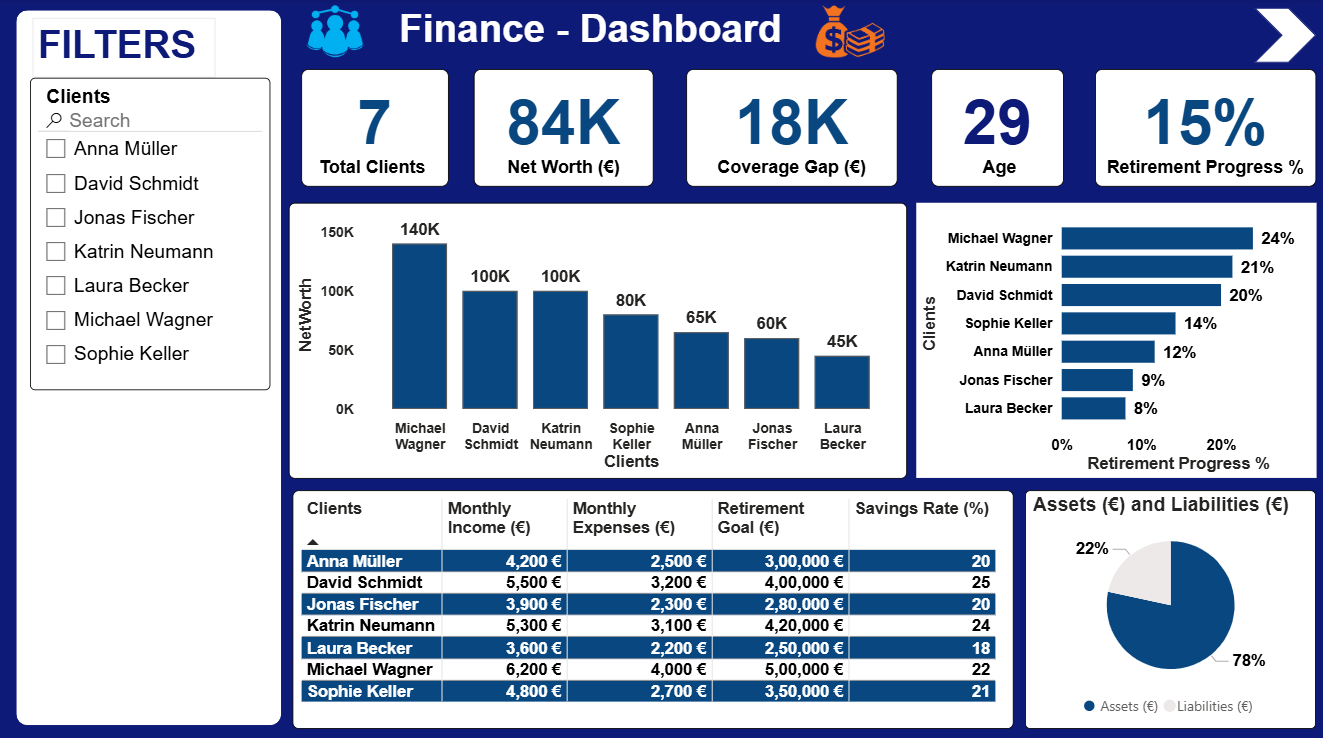

The page's visual inventory and layout, read from the dashboard file:
{"tool":"powerbi","page":{"name":"Page 1","canvas":[1280,720],"ordinal":0},"visuals":[{"type":"shape","box":[13.3,8.4,261.8,696.1],"z":0},{"type":"textbox","box":[380,2.4,394.5,65.1],"z":1000},{"type":"card","fields":{"Values":["Clients.Clients Count"]},"box":[290.8,67.6,142.4,113.4],"z":2000},{"type":"card","fields":{"Values":["Clients.Retirement Progress %"]},"box":[1056.8,67.6,213.5,113.4],"z":3000},{"type":"card","fields":{"Values":["Clients.Avg Net Worth (€)"]},"box":[457.2,67.6,173.7,113.4],"z":4000},{"type":"card","fields":{"Values":["Clients.Avg Coverage Gap (€)"]},"box":[662.3,67.6,203.9,113.4],"z":5000},{"type":"textbox","box":[31.4,18.1,176.1,57.9],"z":6000},{"type":"clusteredColumnChart","fields":{"Category":["Clients.Client Name"],"Y":["Clients.NetWorth"]},"box":[278.7,196.6,597.2,266.6],"z":7000},{"type":"pieChart","fields":{"Y":["Clients.Assets (€)","Clients.Liabilities (€)"]},"box":[989.3,474.1,281.1,230.4],"z":8000},{"type":"tableEx","fields":{"Values":["Clients.Client Name","Clients.Monthly Income (€)","Clients.Monthly Expenses (€)","Clients.Retirement Goal (€)","Clients.Savings Rate (%)"]},"box":[282.3,474.1,696.1,230.4],"z":9000},{"type":"barChart","fields":{"Category":["Clients.Client Name"],"Y":["Clients.Retirement Progress %"]},"box":[884.3,196.6,386.1,265.4],"z":10000},{"type":"slicer","fields":{"Values":["Clients.Client Name"]},"box":[29,76,231.6,301.6],"z":11000},{"type":"card","fields":{"Values":["Clients.Age"]},"box":[898.8,67.6,127.9,113.4],"z":12000},{"type":"shape","box":[1210.1,8.4,60.3,53.1],"z":13000},{"type":"image","box":[284.7,1.2,77.2,60.3],"z":14000},{"type":"image","box":[774.5,1.2,91.7,60.3],"z":15000}]}

Visuals, with their boxes in screenshot pixels (x1, y1, x2, y2), scaled from the page's 1280x720 canvas onto the 1323x738 screenshot:
shape: <box>14,9,284,722</box>
textbox: <box>393,2,801,69</box>
card - Clients.Clients Count: <box>301,69,448,186</box>
card - Clients.Retirement Progress %: <box>1092,69,1313,186</box>
card - Clients.Avg Net Worth (€): <box>473,69,652,186</box>
card - Clients.Avg Coverage Gap (€): <box>685,69,895,186</box>
textbox: <box>32,19,214,78</box>
clusteredColumnChart - Clients.Client Name x Clients.NetWorth: <box>288,202,905,475</box>
pieChart - Clients.Assets (€) x Clients.Liabilities (€): <box>1023,486,1313,722</box>
tableEx - Clients.Client Name x Clients.Monthly Income (€): <box>292,486,1011,722</box>
barChart - Clients.Client Name x Clients.Retirement Progress %: <box>914,202,1313,474</box>
slicer - Clients.Client Name: <box>30,78,269,387</box>
card - Clients.Age: <box>929,69,1061,186</box>
shape: <box>1251,9,1313,63</box>
image: <box>294,1,374,63</box>
image: <box>801,1,895,63</box>
